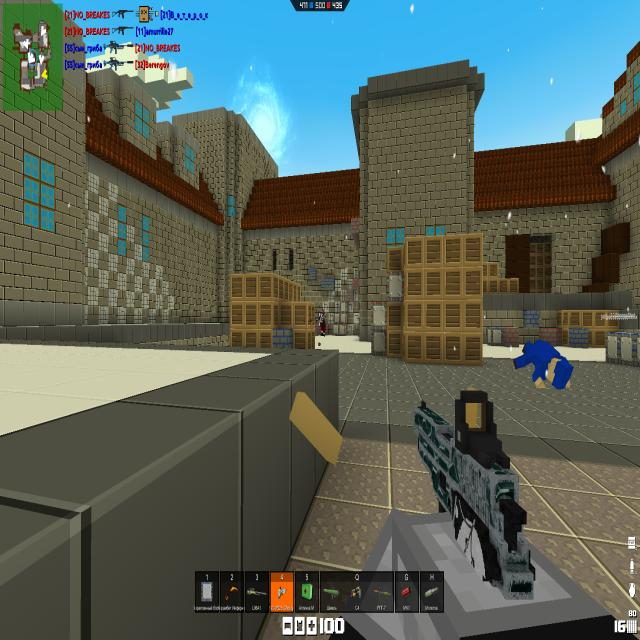player: (512, 338, 574, 388), (317, 309, 327, 337)
